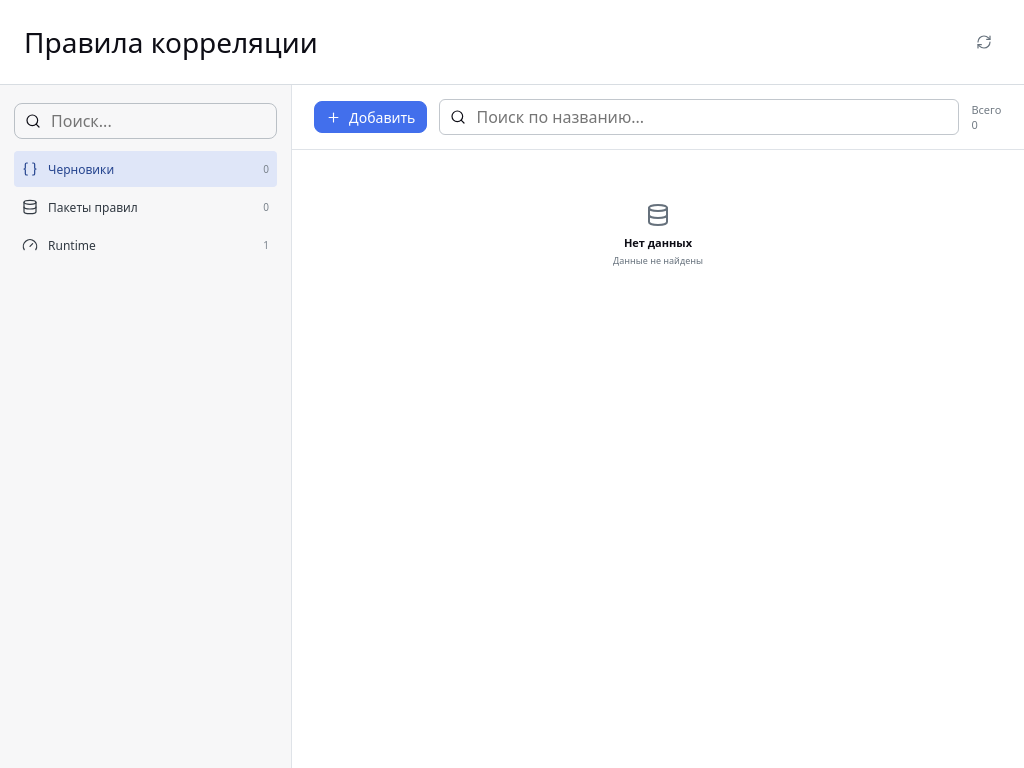
unified rules runtime workspace › renders real runtime state, noise metrics, issues and pack ownership
Click the button "Runtime 1" at (72, 245), box [14,227,277,263]
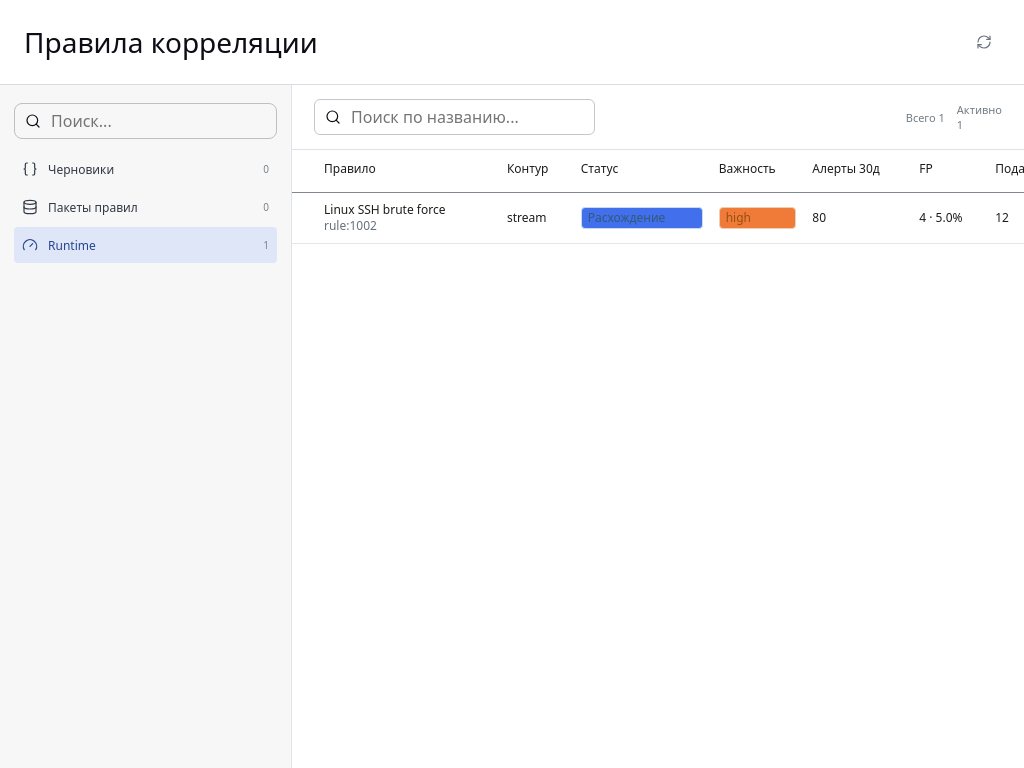
Now the text "Linux SSH brute force" is shown
Now the text "Расхождение" is shown, box [581,206,703,228]
Now the text "4 · 5.0%" is shown, box [911,192,987,243]
Click the text "Linux SSH brute force" at (385, 209), box [324,200,446,218]
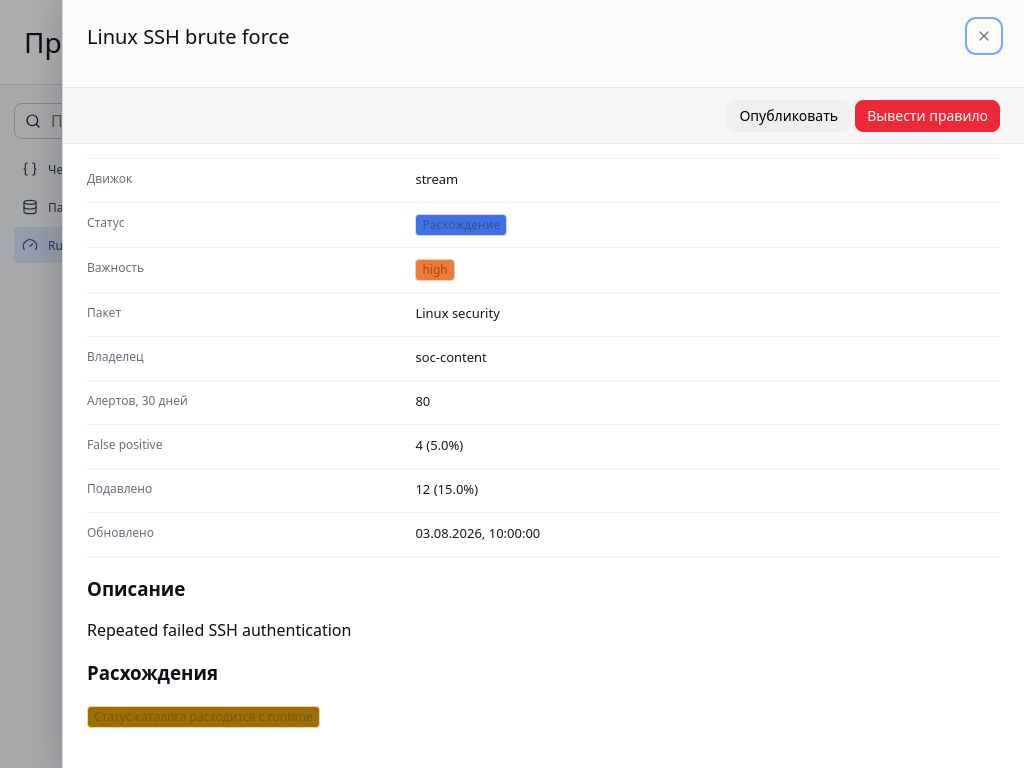
Now the text "Статус каталога расходится с runtime" is shown, box [87,706,320,728]
